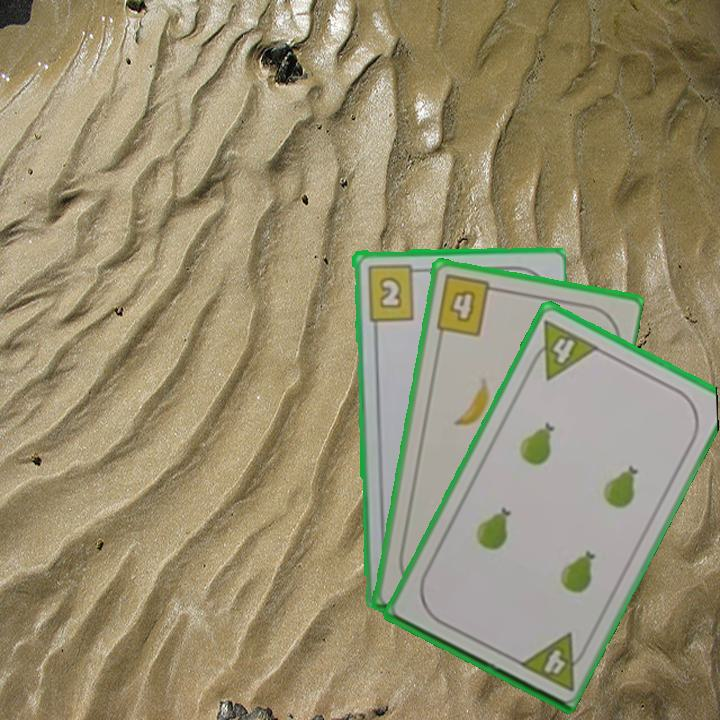2b: (363, 260, 425, 323)
4b: (432, 271, 502, 339)
4p: (524, 316, 601, 383), (514, 629, 592, 694)
